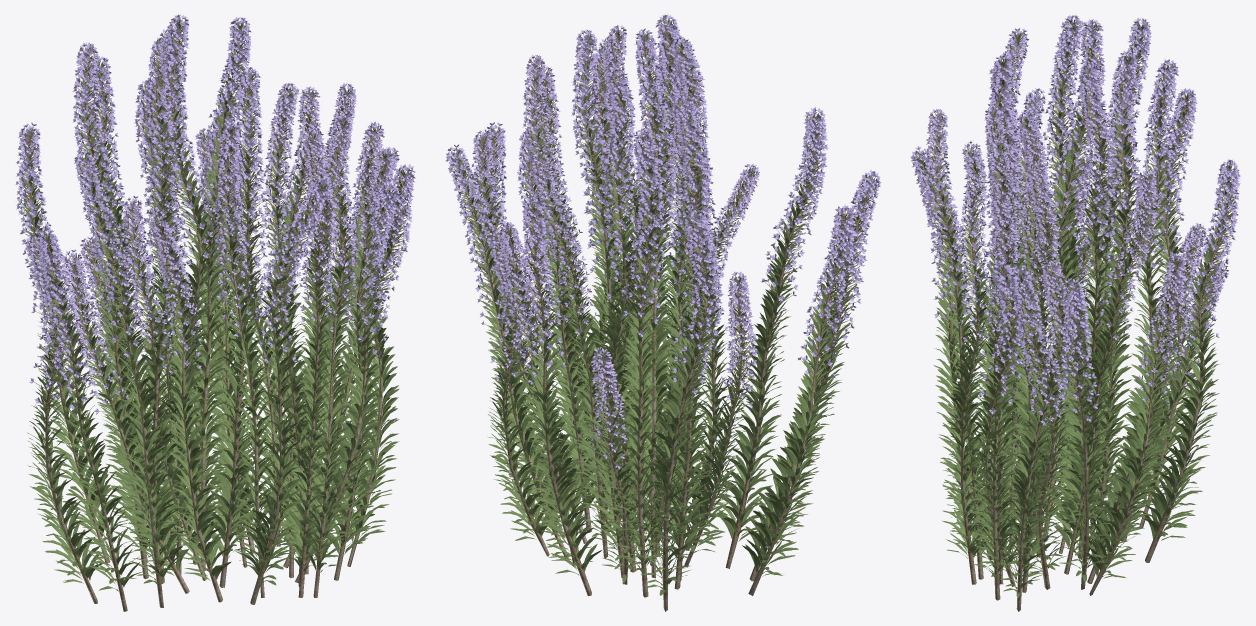
File: Rosmarinus Officinalis Cmp (5).glb
3 views of the same model, side by side, from view 1: azimuth 30°, elevation 25°; view 2: azimuth 150°, elevation 25°; view 3: azimuth 270°, elevation 25° (orthographic). The views are drawn at different scales.
Parts seen in each view (by area): view 1: AM_154_052_Rosmarinus_052_sc; view 2: AM_154_052_Rosmarinus_052_sc; view 3: AM_154_052_Rosmarinus_052_sc.
Boxes of the visible parts, <box> form: AM_154_052_Rosmarinus_052_sc: <box>15,14,416,611</box>; AM_154_052_Rosmarinus_052_sc: <box>445,14,881,611</box>; AM_154_052_Rosmarinus_052_sc: <box>910,14,1240,611</box>.
Size of the model in its own units: 0.6 by 0.8003 by 0.4524.
Materials: 3 (3 with a texture image).
